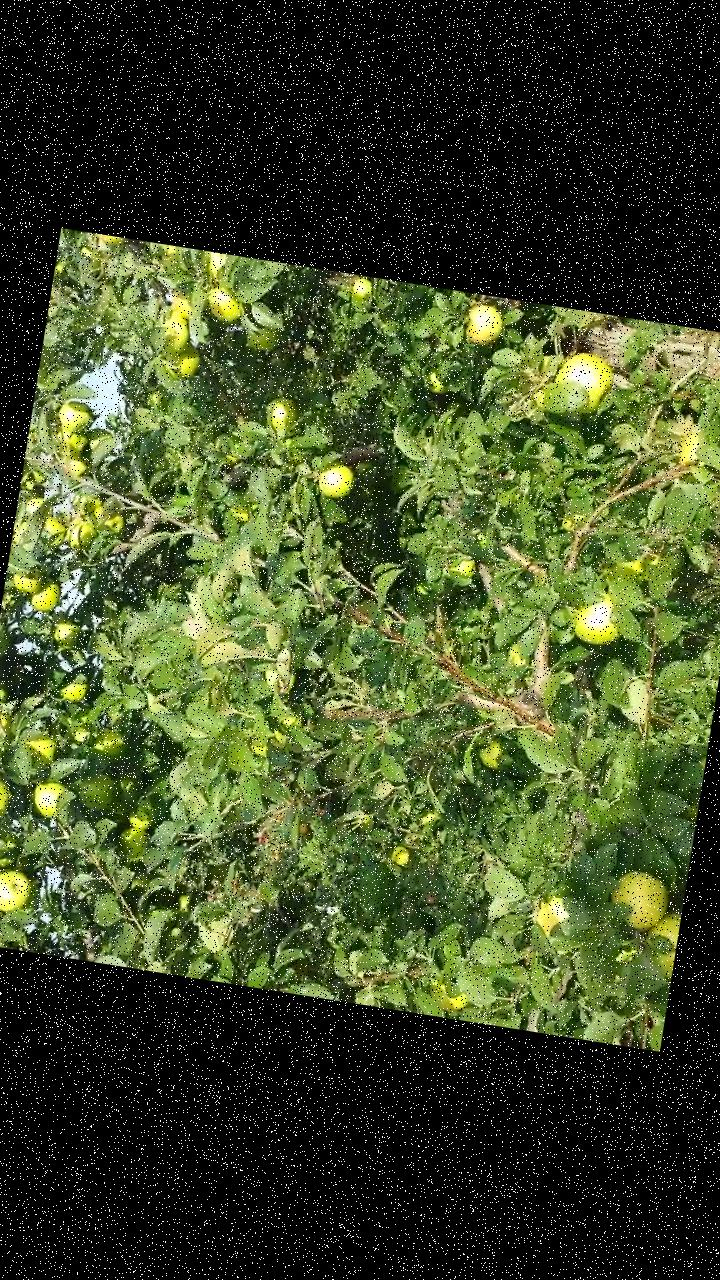Apple: (548, 347, 614, 418), (604, 869, 669, 936), (566, 589, 625, 648), (640, 908, 680, 983), (201, 280, 246, 328), (461, 300, 505, 348), (530, 894, 572, 943), (26, 776, 68, 822), (18, 730, 61, 774), (676, 424, 712, 470), (314, 459, 356, 498), (614, 547, 662, 581), (76, 772, 114, 813), (0, 867, 32, 915), (159, 308, 189, 358), (164, 340, 201, 380), (426, 979, 470, 1012), (266, 394, 300, 435), (54, 396, 92, 432), (112, 826, 148, 864), (88, 726, 126, 761), (7, 564, 46, 598), (64, 518, 99, 554), (240, 321, 278, 354), (50, 426, 88, 458), (87, 502, 125, 534), (28, 578, 60, 615), (162, 286, 194, 320), (38, 514, 68, 550), (472, 738, 503, 772), (502, 638, 531, 668), (56, 679, 89, 704), (50, 620, 78, 648), (445, 554, 476, 578), (205, 252, 226, 285), (60, 453, 90, 476), (422, 366, 447, 393), (0, 777, 12, 824), (124, 812, 152, 832), (389, 844, 411, 869), (350, 276, 374, 298), (224, 506, 248, 524), (526, 386, 544, 408), (97, 234, 125, 247), (22, 494, 40, 514), (0, 679, 7, 712), (696, 751, 706, 772), (0, 707, 6, 739)
